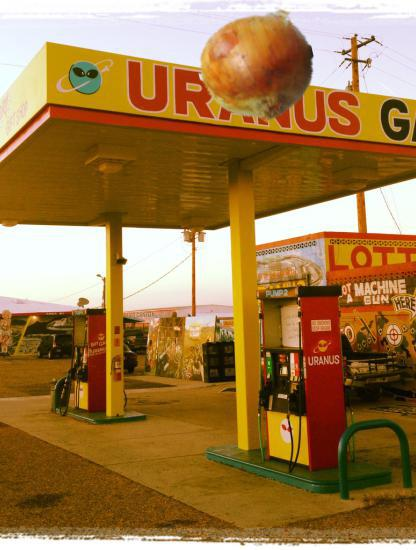Onion: (199, 11, 316, 128)
